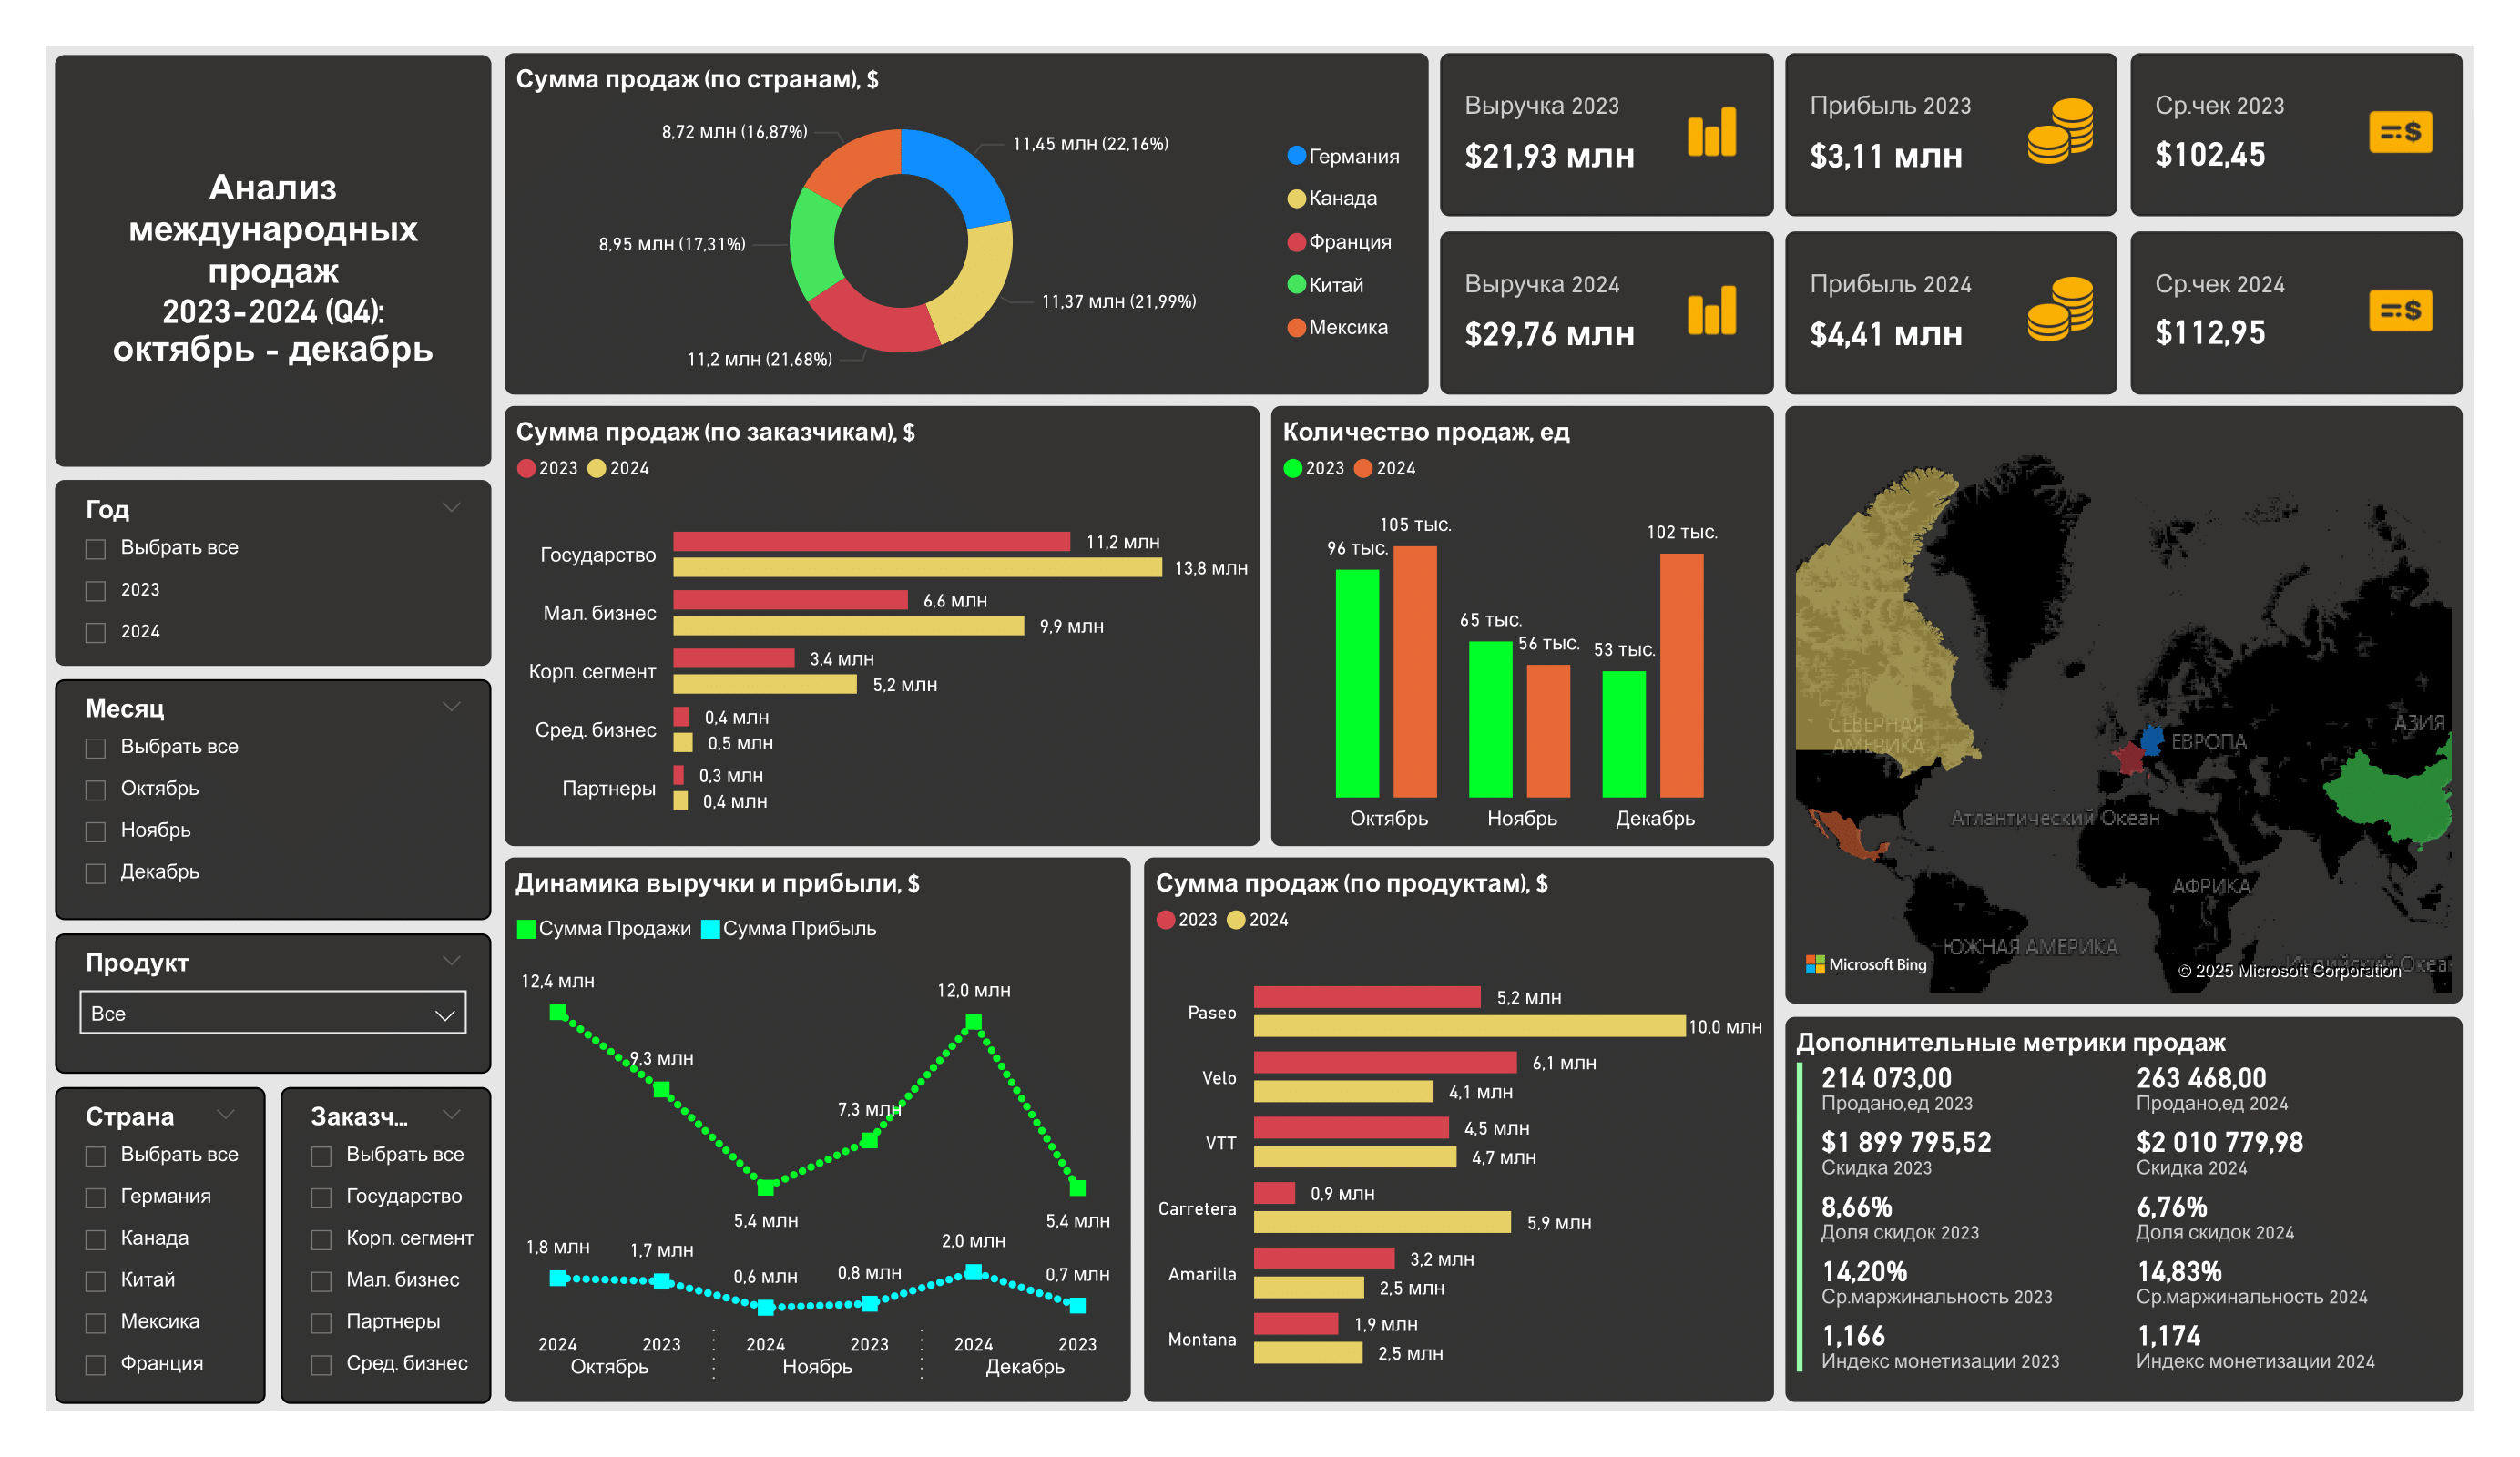

This screenshot's page, from the dashboard's own definition file:
{"tool":"powerbi","page":{"name":"Страница 1","canvas":[1280,720],"ordinal":0},"visuals":[{"type":"slicer","fields":{"Values":["Лист1.Год"]},"box":[4.9,228.6,230.5,98.2],"z":0},{"type":"slicer","fields":{"Values":["Лист1.Название месяца"]},"box":[4.9,333.6,230.5,127.4],"z":1000},{"type":"slicer","fields":{"Values":["Лист1.Продукт "]},"box":[4.9,467.8,230.5,73.9],"z":2000},{"type":"slicer","fields":{"Values":["Лист1.Сегмент"]},"box":[124.5,548.6,110.9,167.3],"z":3000},{"type":"slicer","fields":{"Values":["Лист1.Страна"]},"box":[4.9,548.6,110.9,167.3],"z":4000},{"type":"textbox","box":[4.9,4.9,230.5,216.9],"z":5000},{"type":"donutChart","title":"Сумма продаж (по странам), $","fields":{"Y":["Sum(Лист1.Продажи)"],"Category":["Лист1.Страна"]},"box":[242.1,4.4,486.8,179.1],"z":6000},{"type":"clusteredBarChart","title":"Сумма продаж (по заказчикам), $","fields":{"Y":["Sum(Лист1.Продажи)"],"Category":["Лист1.Заказчики"],"Series":["Лист1.Год"]},"box":[242.1,189.8,398.1,232.3],"z":7000},{"type":"cardVisual","fields":{"Data":["Лист1.Прибыль_Q4_2023"]},"box":[916.8,4.4,175.6,86],"z":8000},{"type":"cardVisual","fields":{"Data":["Лист1.Выручка 2024"]},"box":[735.1,97.5,175.6,86],"z":9000},{"type":"cardVisual","fields":{"Data":["Лист1.Выручка 2023"]},"box":[735.1,4.4,175.6,86],"z":10000},{"type":"cardVisual","fields":{"Data":["Лист1.Прибыль 2024"]},"box":[916.8,97.5,175.6,86],"z":11000},{"type":"clusteredColumnChart","title":"Количество продаж, ед","fields":{"Y":["Sum(Лист1.Продано, ед)"],"Category":["Лист1.Название месяца"],"Series":["Лист1.Год"]},"box":[646.4,189.8,264.2,232.3],"z":12000},{"type":"clusteredBarChart","title":"Сумма продаж (по продуктам), $","fields":{"Y":["Sum(Лист1.Продажи)"],"Category":["Лист1.Продукт "],"Series":["Лист1.Год"]},"box":[579,428.3,331.6,286.4],"z":13000},{"type":"cardVisual","fields":{"Data":["Лист1.Ср.чек 2023"]},"box":[1098.6,4.4,175.6,86],"z":14000},{"type":"lineChart","title":"Динамика выручки и прибыли, $","fields":{"Category":["Лист1.Название месяца","Лист1.Год"],"Y":["Sum(Лист1.Продажи)","Sum(Лист1.Прибыль)"]},"box":[242.1,428.3,329.9,286.4],"z":15000},{"type":"cardVisual","fields":{"Data":["Лист1.Ср.чек 2024"]},"box":[1098.6,97.5,175.6,86],"z":16000},{"type":"multiRowCard","title":"Дополнительные метрики продаж","fields":{"Values":["Лист1.Продано,ед 2023","Лист1.Продано,ед 2024","Лист1.Скидка 2023","Лист1.Скидка 2024","Лист1.Доля скидок 2023","Лист1.Доля скидок 2024","Лист1.Ср.марж 2023","Лист1.Ср.марж 2024","Лист1.Индекс монетизации 2023","Лист1.Индекс монетизации 2024"]},"box":[916.8,511.6,357.3,203.1],"z":17000},{"type":"filledMap","fields":{"Category":["Лист1.Страна"]},"box":[916.8,189.8,357.3,315.7],"z":18000}]}

Visuals, with their boxes in screenshot pixels (x1, y1, x2, y2):
slicer - Лист1.Год: x1=55 y1=479 x2=492 y2=666
slicer - Лист1.Название месяца: x1=55 y1=678 x2=492 y2=920
slicer - Лист1.Продукт : x1=55 y1=933 x2=492 y2=1074
slicer - Лист1.Сегмент: x1=281 y1=1086 x2=492 y2=1403
slicer - Лист1.Страна: x1=55 y1=1086 x2=265 y2=1403
textbox: x1=55 y1=55 x2=492 y2=466
"Сумма продаж (по странам), $" donutChart: x1=505 y1=54 x2=1429 y2=393
"Сумма продаж (по заказчикам), $" clusteredBarChart: x1=505 y1=405 x2=1260 y2=846
cardVisual - Лист1.Прибыль_Q4_2023: x1=1785 y1=54 x2=2118 y2=217
cardVisual - Лист1.Выручка 2024: x1=1441 y1=230 x2=1774 y2=393
cardVisual - Лист1.Выручка 2023: x1=1441 y1=54 x2=1774 y2=217
cardVisual - Лист1.Прибыль 2024: x1=1785 y1=230 x2=2118 y2=393
"Количество продаж, ед" clusteredColumnChart: x1=1272 y1=405 x2=1773 y2=846
"Сумма продаж (по продуктам), $" clusteredBarChart: x1=1144 y1=858 x2=1773 y2=1401
cardVisual - Лист1.Ср.чек 2023: x1=2130 y1=54 x2=2464 y2=217
"Динамика выручки и прибыли, $" lineChart: x1=505 y1=858 x2=1131 y2=1401
cardVisual - Лист1.Ср.чек 2024: x1=2130 y1=230 x2=2464 y2=393
"Дополнительные метрики продаж" multiRowCard: x1=1785 y1=1016 x2=2464 y2=1401
filledMap - Лист1.Страна: x1=1785 y1=405 x2=2464 y2=1004
